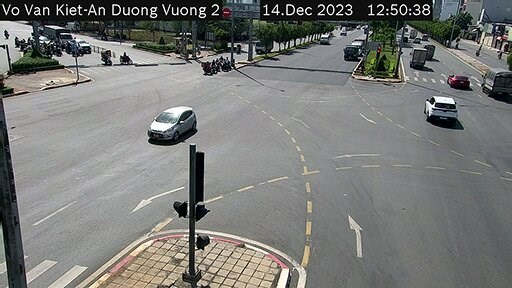car: (150, 100, 199, 146), (424, 95, 463, 129), (448, 71, 475, 92)
truck: (480, 66, 508, 100), (412, 46, 427, 71), (424, 41, 441, 61)
